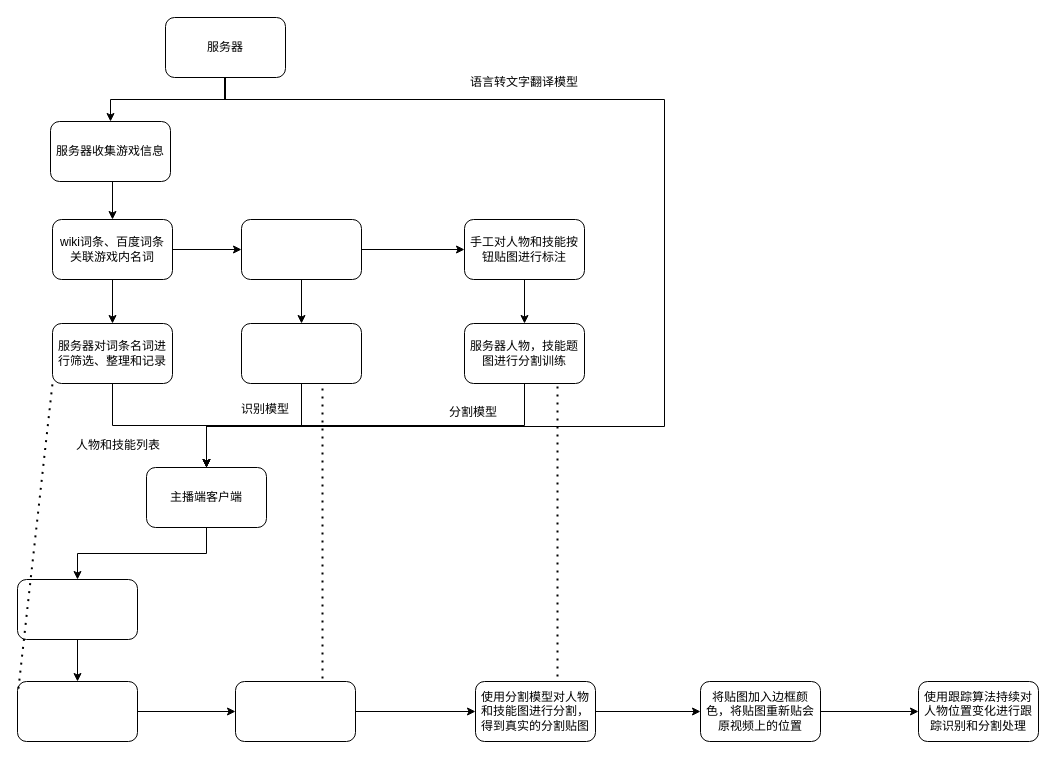
Some shapes in this 1056 by 759 pixel diagram are drawn without their labels. Here are the shapes that lost their labels. From the top down, the box of each, then its label:
(240, 218, 362, 280): 通过人物名字搜索人物图片 通过技能名字搜索技能图片
(240, 322, 362, 384): 服务器图片进行人物、技能识别定位训练
(16, 578, 138, 640): 客户端采集语音，通过语音转译为文字
(16, 680, 138, 742): 检测翻译文字进行人物和技能匹配
(234, 680, 356, 742): 对视频流进行识别模型检测，定位到人物和技能位置，用不同颜色来标注
